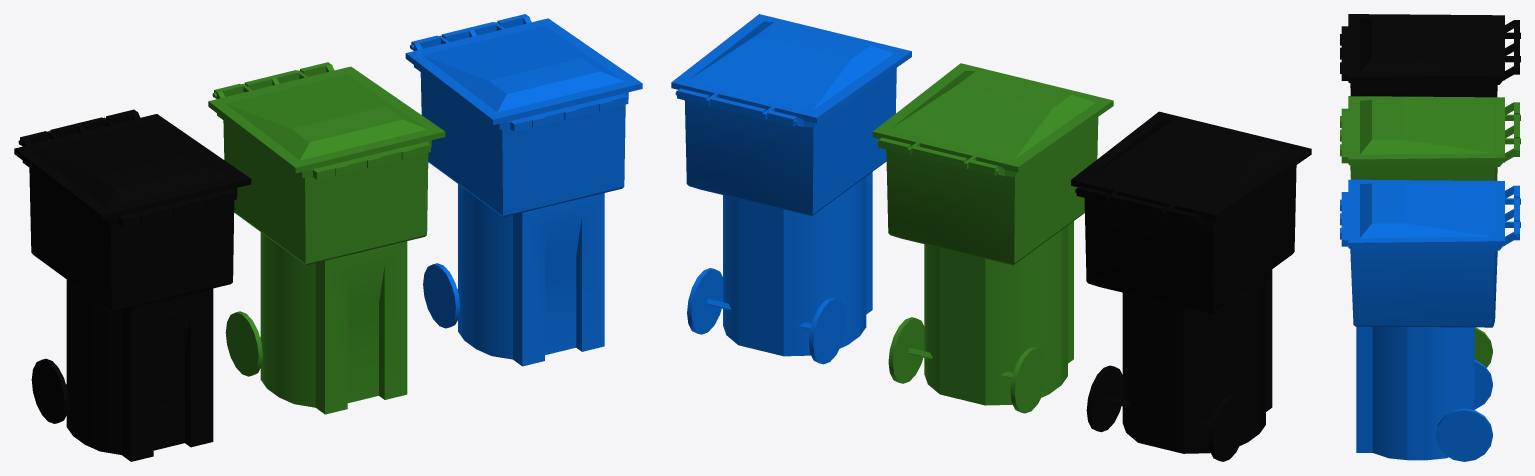
Rendered from CS_dustbin.fbx.
3 views of the same model, side by side, from view 1: azimuth 30°, elevation 25°; view 2: azimuth 150°, elevation 25°; view 3: azimuth 270°, elevation 25° (orthographic). The views are drawn at different scales.
Visible parts, largest first — view 1: CS_dustbin_black, CS_dustbin_blue, CS_dustbin_green; view 2: CS_dustbin_black, CS_dustbin_blue, CS_dustbin_green; view 3: CS_dustbin_blue, CS_dustbin_green, CS_dustbin_black.
Boxes of the visible parts, x1,y1,x2,y2 form: CS_dustbin_black: (14,109,251,461); CS_dustbin_blue: (405,14,642,366); CS_dustbin_green: (208,62,445,414); CS_dustbin_black: (1071,111,1311,461); CS_dustbin_blue: (671,14,911,364); CS_dustbin_green: (872,63,1113,413); CS_dustbin_blue: (1340,179,1520,461); CS_dustbin_green: (1340,96,1520,367); CS_dustbin_black: (1340,14,1520,97).
Size of the model in its own units: 307 by 145 by 103.
